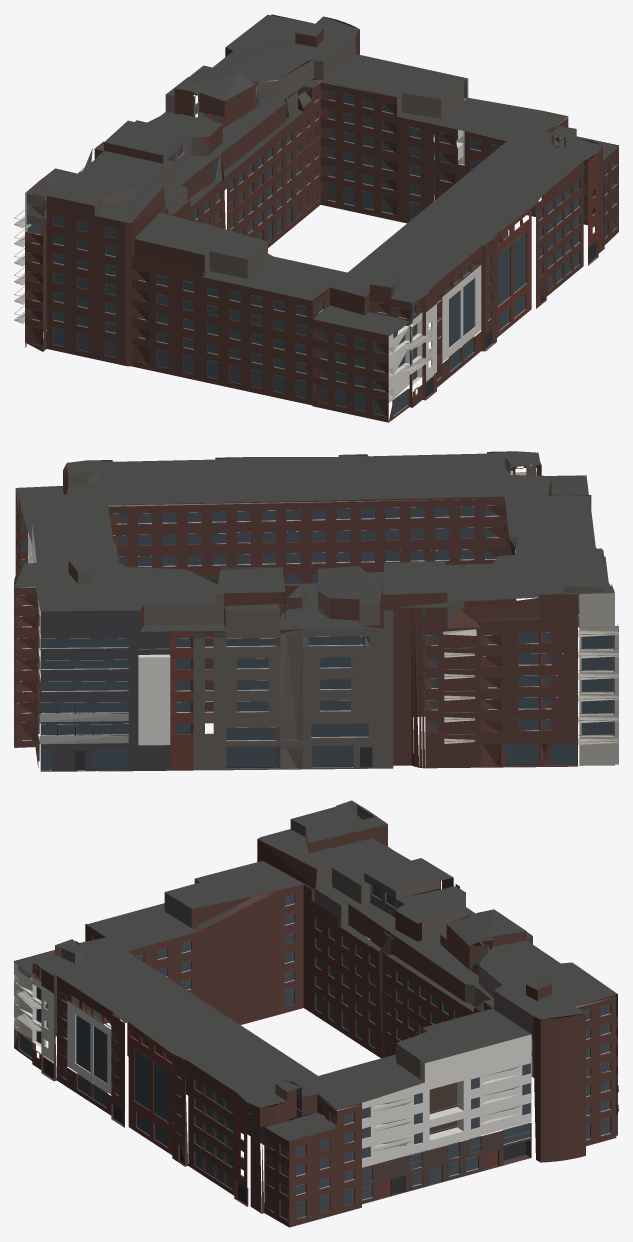
File: valkenburgerstraat-69.lod1.glb
3 renders of one model, top to bottom at view 1: azimuth 30°, elevation 25°; view 2: azimuth 150°, elevation 25°; view 3: azimuth 270°, elevation 25°, orthographic. The views are drawn at different scales.
Visible parts, largest first — view 1: valkenburgerstraat-69; view 2: valkenburgerstraat-69; view 3: valkenburgerstraat-69.
Part boxes in pixels (x1=…): valkenburgerstraat-69: x1=14, y1=14, x2=618, y2=422; valkenburgerstraat-69: x1=14, y1=451, x2=618, y2=771; valkenburgerstraat-69: x1=14, y1=800, x2=618, y2=1227.
Bounding box in the file's own units: 84.24 × 21.73 × 77.5.
